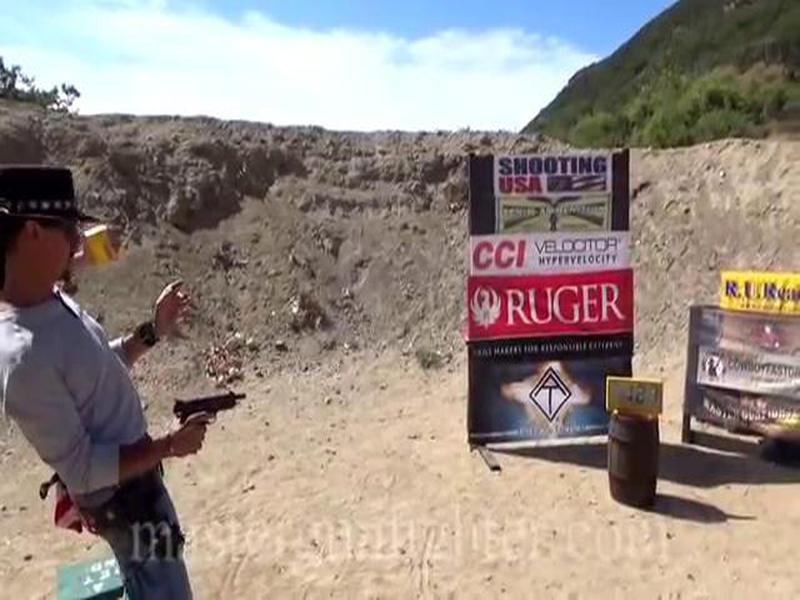Pistola: (167, 386, 260, 451)
